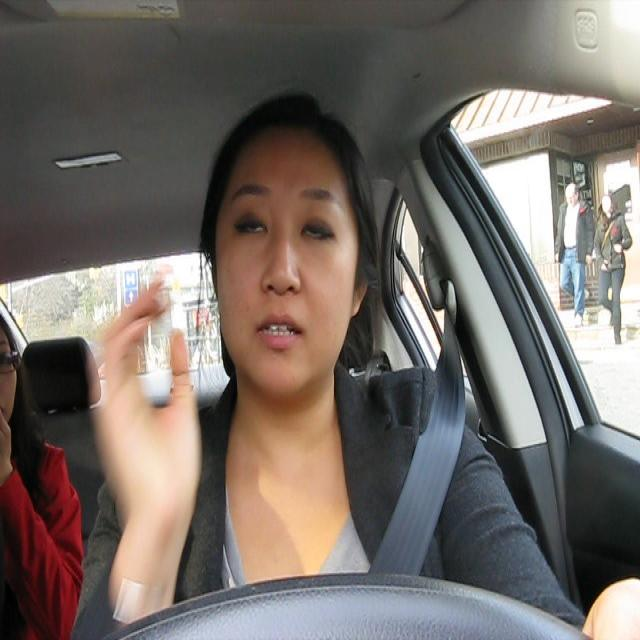Eyeclosed: (301, 215, 335, 250), (235, 210, 267, 242)
